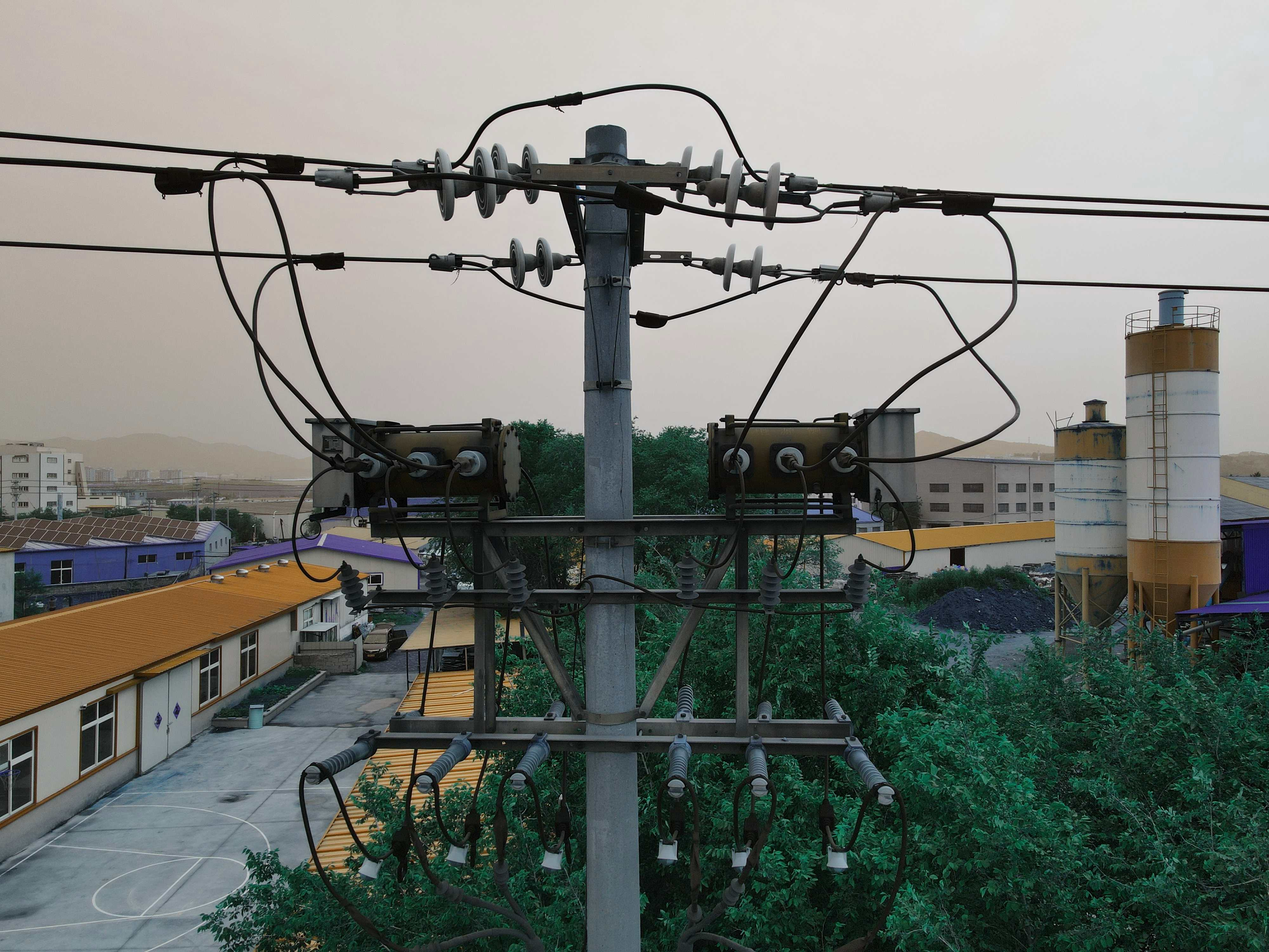severe_soiling_no_discharge_whole: (303, 739, 378, 781), (417, 736, 470, 791), (844, 747, 893, 804), (508, 735, 551, 789), (664, 741, 693, 795), (744, 743, 770, 797), (672, 682, 694, 718), (824, 698, 845, 717), (547, 698, 566, 719), (755, 699, 773, 720), (405, 709, 423, 717)
